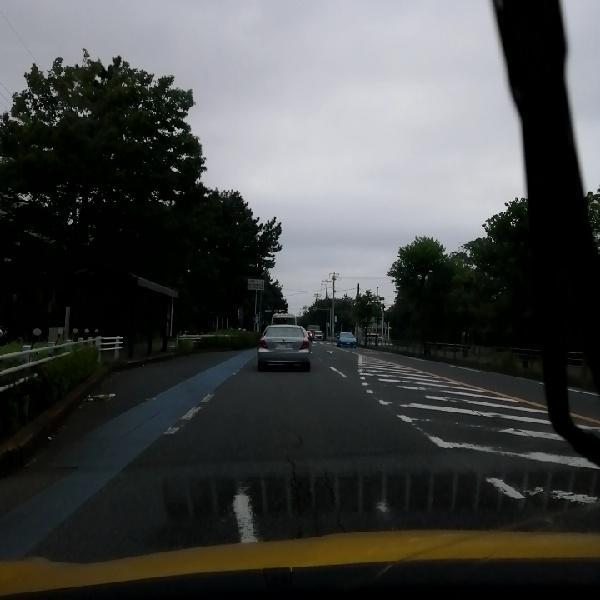D00: (278, 431, 305, 483)
